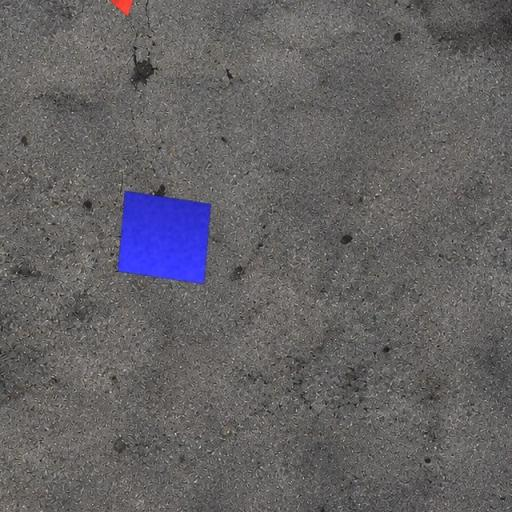BLUE_SQUARE: (117, 190, 212, 284)
